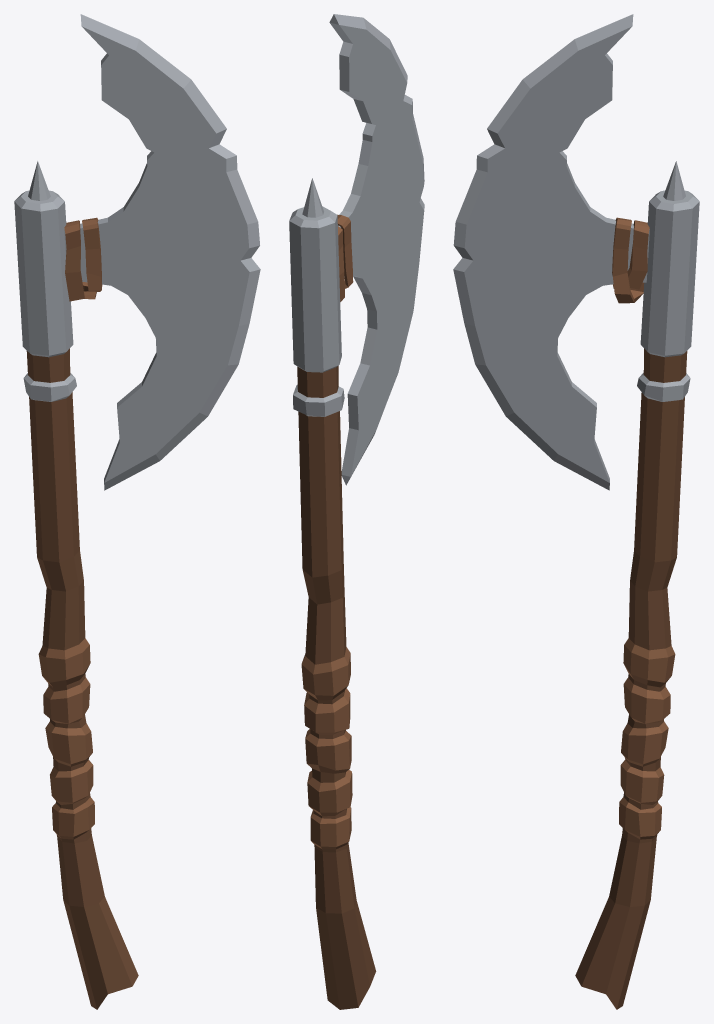
File: bearded_axe.glb
The picture shows the model from 3 angles, left to right: view 1: azimuth 90°, elevation 25°; view 2: azimuth 150°, elevation 25°; view 3: azimuth 270°, elevation 25°; orthographic projection.
Visible parts, largest first — view 1: bearded_axe; view 2: bearded_axe; view 3: bearded_axe.
Boxes of the visible parts, bbox=[...] form: bearded_axe: bbox=[14, 14, 260, 1009]; bearded_axe: bbox=[289, 14, 424, 1009]; bearded_axe: bbox=[453, 14, 699, 1009].
Bounding box in the file's own units: 0.0378 × 0.8005 × 0.1802.
